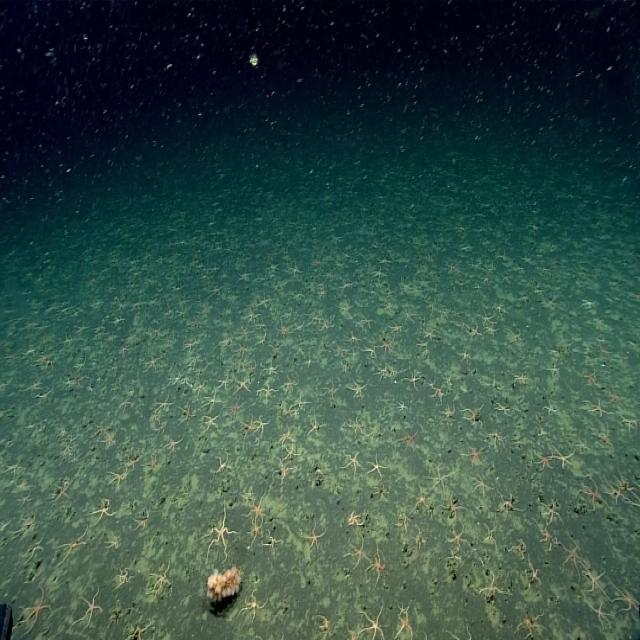brittle-stars: (202, 502, 235, 564), (18, 585, 52, 630), (76, 588, 104, 632), (241, 586, 268, 624), (577, 474, 603, 512), (359, 600, 383, 640), (146, 563, 172, 599), (557, 538, 583, 573), (59, 530, 87, 562), (515, 609, 544, 639), (604, 475, 628, 511), (582, 563, 608, 596), (302, 518, 326, 552), (368, 545, 386, 584), (91, 497, 115, 525), (586, 602, 610, 630), (412, 482, 432, 515), (347, 538, 368, 569), (496, 489, 520, 516), (479, 573, 502, 601), (428, 468, 452, 494), (535, 520, 555, 550), (585, 396, 609, 420), (396, 612, 416, 640), (553, 444, 575, 469), (445, 525, 467, 549), (541, 498, 561, 524), (472, 470, 491, 497), (464, 402, 484, 427), (607, 385, 627, 410), (364, 417, 382, 444), (245, 494, 266, 517), (343, 449, 362, 474), (443, 499, 465, 519), (348, 376, 368, 398), (272, 459, 292, 481), (54, 481, 73, 504), (481, 524, 499, 548), (367, 453, 384, 478), (404, 366, 421, 391), (328, 337, 348, 358), (487, 430, 507, 451), (378, 334, 397, 356), (401, 426, 417, 452), (533, 449, 553, 469), (581, 367, 599, 389), (429, 381, 446, 404), (439, 399, 456, 422), (466, 445, 485, 465), (321, 380, 340, 400), (203, 392, 222, 412), (109, 466, 126, 488), (358, 308, 375, 330), (248, 516, 263, 540), (216, 371, 233, 392), (259, 382, 276, 403), (266, 531, 282, 553), (348, 415, 364, 437), (144, 351, 160, 373), (254, 414, 269, 437), (202, 412, 220, 431), (156, 393, 174, 412), (242, 415, 256, 439), (282, 373, 298, 394), (348, 509, 366, 527), (213, 454, 231, 472), (234, 376, 250, 396), (308, 417, 323, 438), (478, 308, 496, 325), (228, 399, 244, 418), (117, 564, 131, 585), (284, 441, 298, 462), (495, 399, 512, 416), (179, 405, 195, 423), (257, 292, 273, 310), (338, 299, 353, 318), (458, 342, 472, 362), (102, 429, 118, 446), (165, 436, 182, 452), (243, 308, 260, 324), (422, 326, 437, 344), (514, 370, 530, 386), (482, 322, 498, 338), (465, 321, 480, 338), (361, 343, 376, 360), (192, 378, 208, 393), (238, 266, 252, 283), (278, 321, 290, 340), (94, 423, 109, 438), (126, 454, 140, 470), (372, 266, 386, 282), (280, 430, 293, 447), (376, 255, 393, 268), (189, 352, 203, 367), (147, 454, 158, 473), (390, 319, 403, 335), (416, 274, 429, 290), (546, 364, 560, 378), (396, 600, 408, 615), (396, 398, 408, 412)
